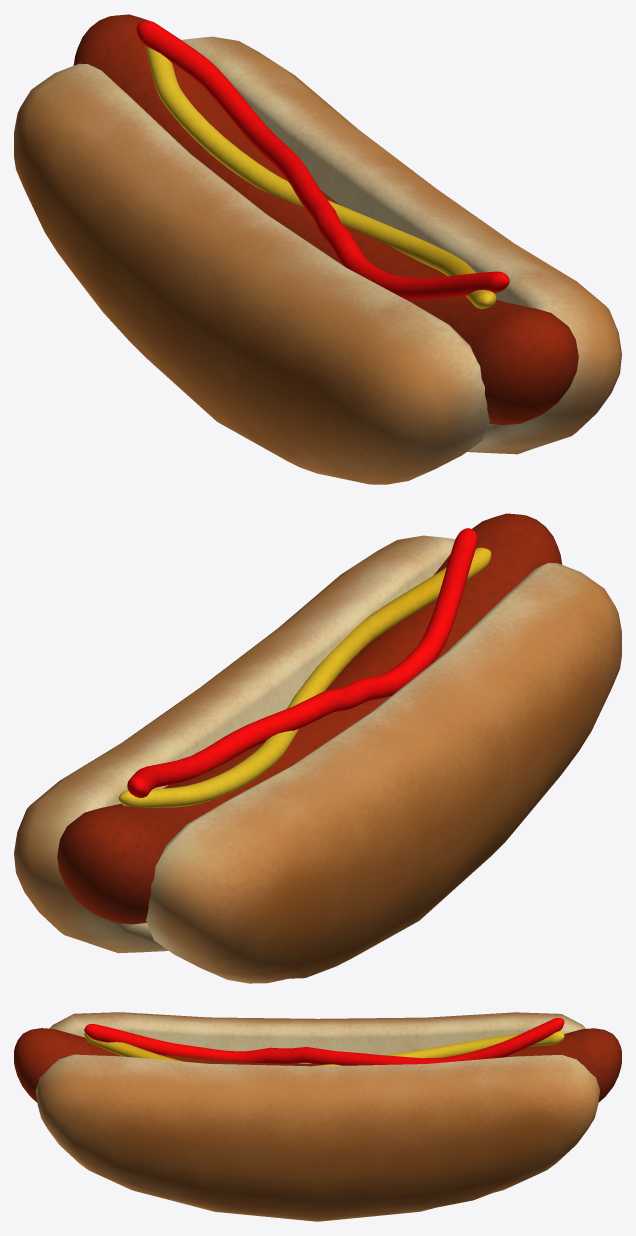
The model's file is Hotdog_FBX.fbx.
3 views of the same model, one above another, from view 1: azimuth 30°, elevation 25°; view 2: azimuth 150°, elevation 25°; view 3: azimuth 270°, elevation 25° (orthographic). The views are drawn at different scales.
Visible parts, largest first — view 1: bun, hotdog, Mustard, Ketchup; view 2: bun, hotdog, Mustard, Ketchup; view 3: bun, hotdog, Mustard, Ketchup.
Part boxes in pixels (left/top/right/bottom): bun: left=14, top=36, right=621, bottom=484; hotdog: left=73, top=14, right=578, bottom=425; Mustard: left=136, top=20, right=509, bottom=299; Ketchup: left=145, top=45, right=496, bottom=308; bun: left=14, top=535, right=621, bottom=983; hotdog: left=57, top=513, right=562, bottom=924; Mustard: left=127, top=528, right=477, bottom=797; Ketchup: left=118, top=547, right=491, bottom=807; bun: left=35, top=1012, right=599, bottom=1221; hotdog: left=14, top=1028, right=621, bottom=1102; Mustard: left=84, top=1018, right=564, bottom=1065; Ketchup: left=84, top=1031, right=564, bottom=1066.
Bounding box in the file's own units: 16.21 × 14.72 × 43.82.
Materials: 1 (1 with a texture image).
